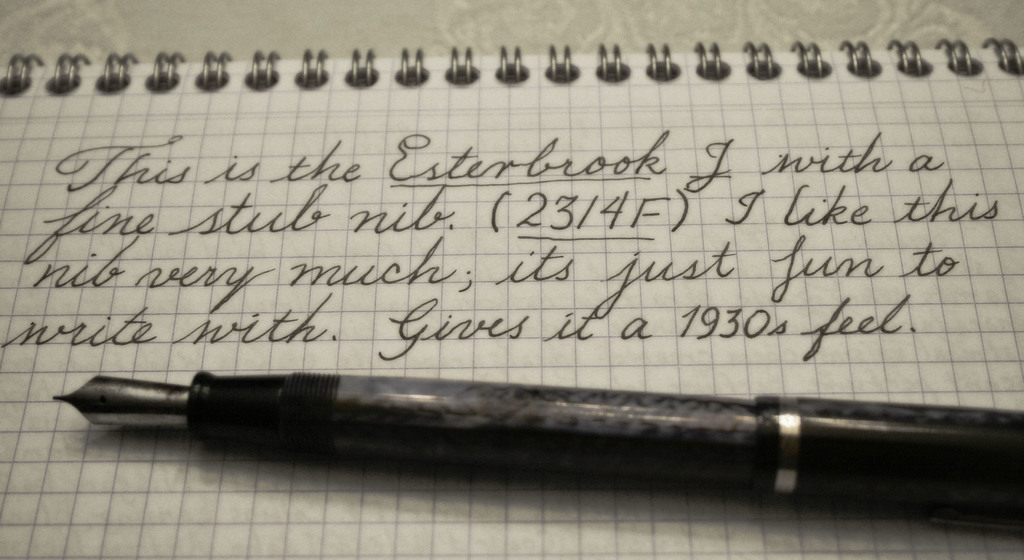Pen: (47, 400, 1023, 546)
